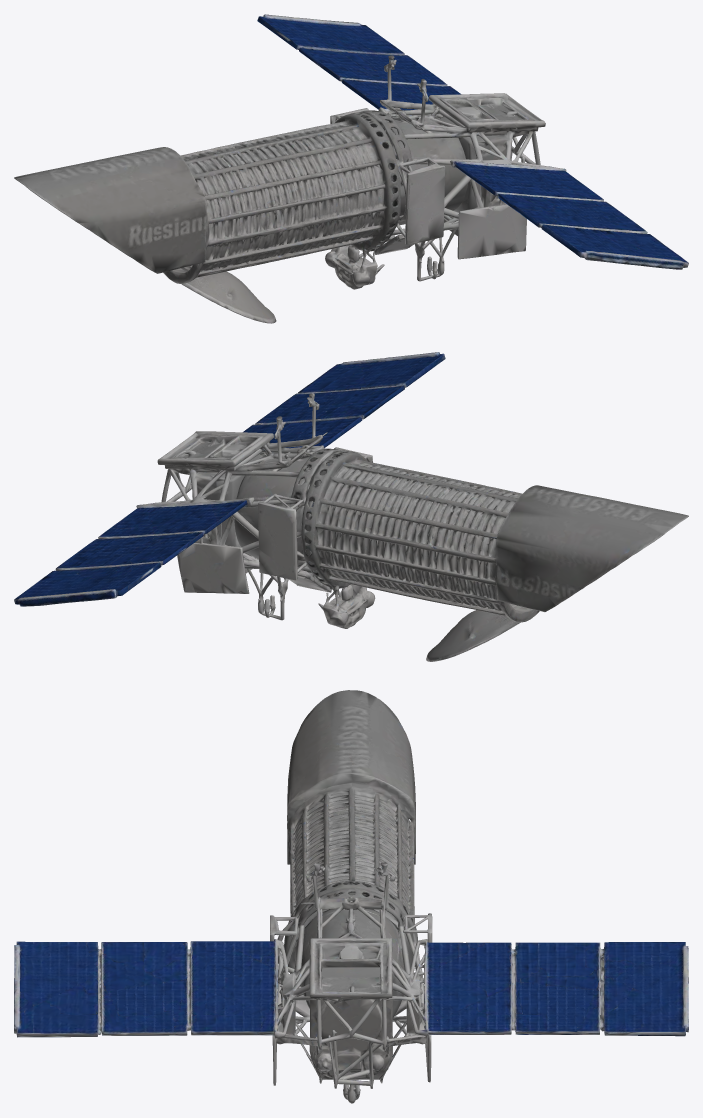
Rendered from spektr_uv.glb.
The picture shows the model from 3 angles, top to bottom: view 1: azimuth 30°, elevation 25°; view 2: azimuth 150°, elevation 25°; view 3: azimuth 270°, elevation 25°; orthographic projection. The views are drawn at different scales.
Size of the model in its own units: 1.71 by 0.7002 by 1.91.
1 material, 1 textured.
